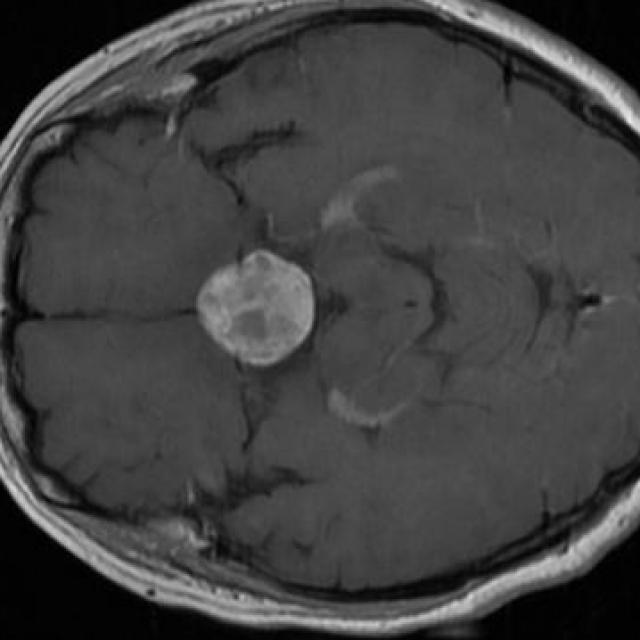pituitary: (194, 250, 317, 369)
